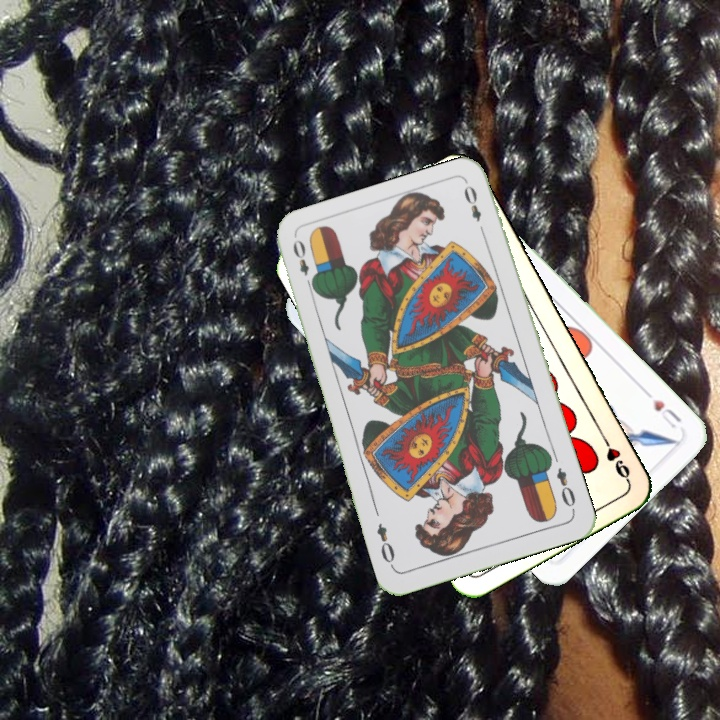EO: (288, 235, 318, 293), (552, 463, 578, 514)
H9: (596, 430, 633, 485)
HU: (649, 395, 684, 431)
